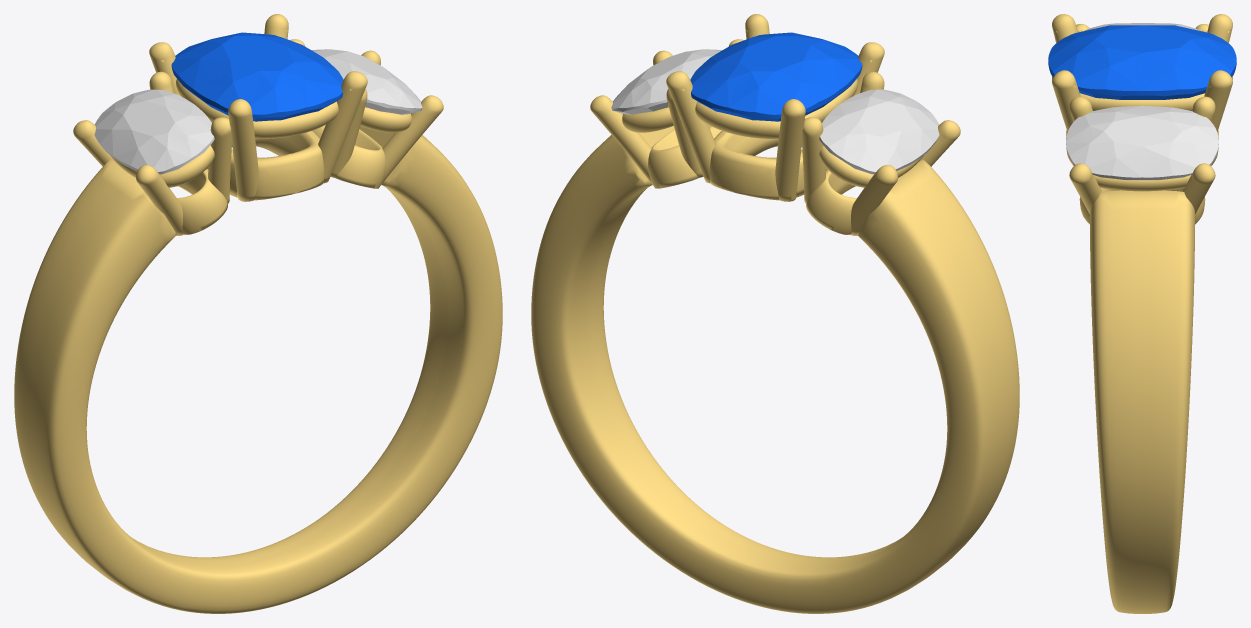
The model's file is bluesapphire-cushion-yellowgold-4prong-straighttaperedband-3stone.glb.
The picture shows the model from 3 angles, left to right: view 1: azimuth 30°, elevation 25°; view 2: azimuth 150°, elevation 25°; view 3: azimuth 270°, elevation 25°; orthographic projection.
Parts seen in each view (by area): view 1: metal, stone.003, side.006, side.007; view 2: metal, stone.003, side.006, side.007; view 3: metal, stone.003, side.007, side.006.
Part boxes in pixels (bbox=[...]): metal: bbox=[14, 14, 502, 613]; stone.003: bbox=[171, 32, 343, 121]; side.006: bbox=[94, 89, 214, 174]; side.007: bbox=[311, 49, 422, 114]; metal: bbox=[531, 14, 1019, 613]; stone.003: bbox=[690, 32, 862, 121]; side.006: bbox=[819, 89, 939, 174]; side.007: bbox=[611, 49, 722, 114]; metal: bbox=[1052, 14, 1232, 613]; stone.003: bbox=[1048, 25, 1236, 99]; side.007: bbox=[1066, 105, 1218, 180]; side.006: bbox=[1084, 23, 1200, 30].
Bounding box in the file's own units: 20.11 × 23.04 × 7.15.
